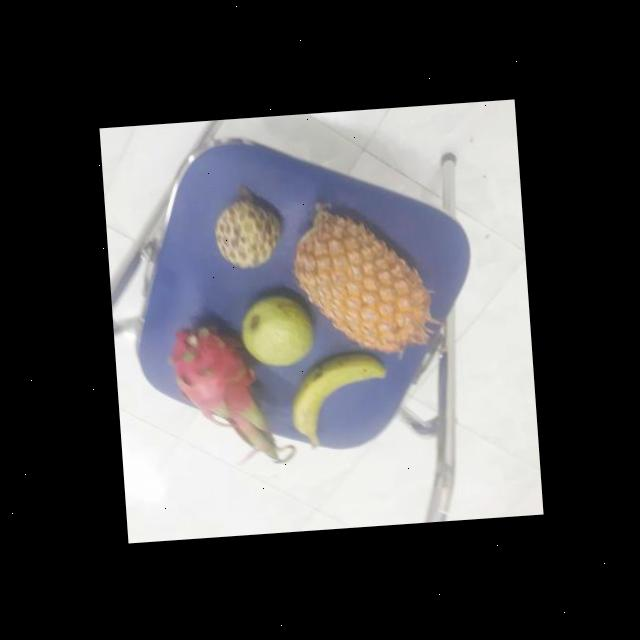Sakya fruit: (212, 194, 290, 270)
banana: (288, 350, 392, 444)
guava: (236, 290, 318, 367)
pineapple: (290, 202, 442, 354)
pitaya: (169, 319, 273, 444)
